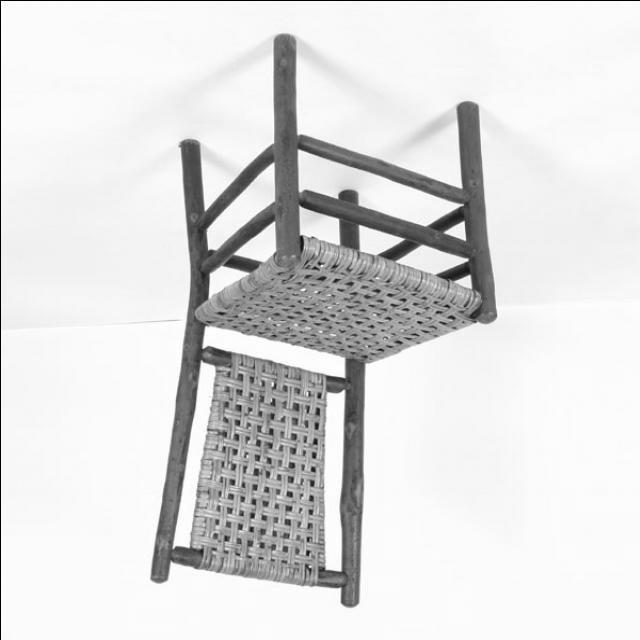chair: (146, 32, 498, 611)
